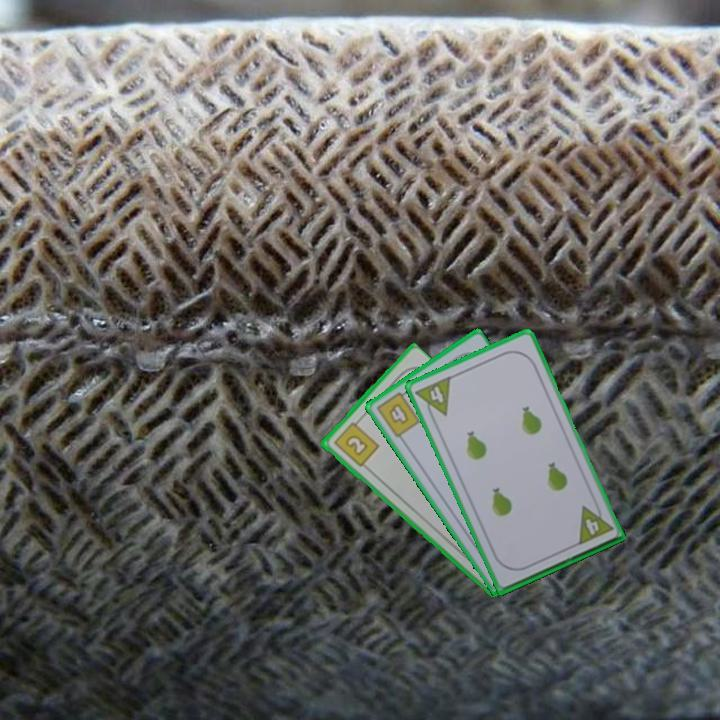2b: (330, 415, 381, 470)
4b: (372, 386, 423, 440)
4p: (412, 372, 454, 424), (574, 498, 616, 548)
